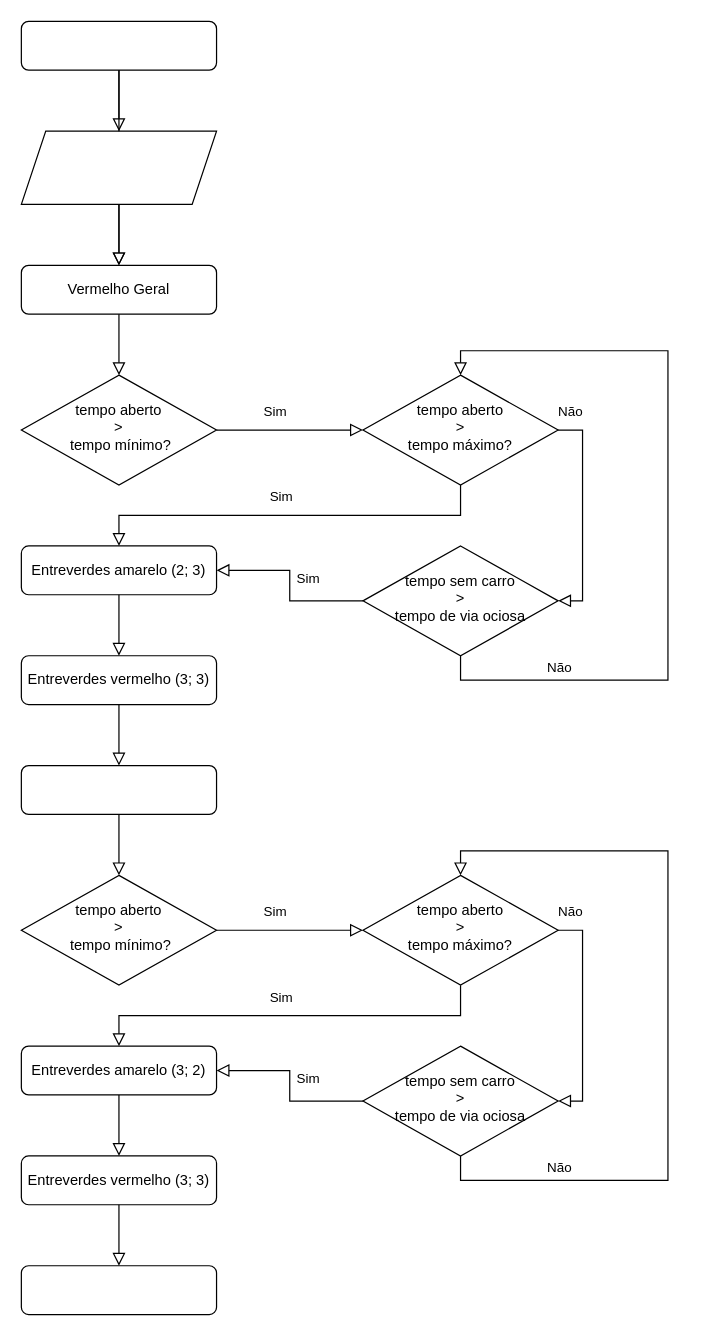
Image size: 702x1336. Some labels were removed from this diagram. Each missing label, with the box of its shape:
Finalizar Ciclo: (20, 1265, 217, 1315)
Iniciar Ciclo: (20, 20, 217, 70)
tempo minimo; tempo maximo; tempo de via ociosa.: (20, 130, 217, 204)
Vermelho Geral (3; 1): (20, 764, 217, 814)
